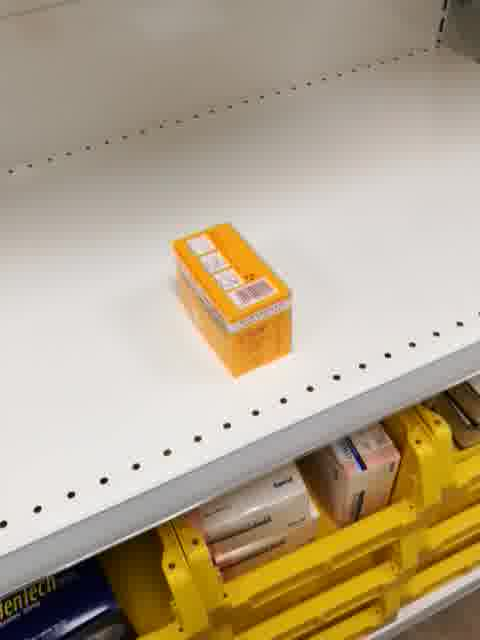jasminetea: (172, 218, 296, 379)
